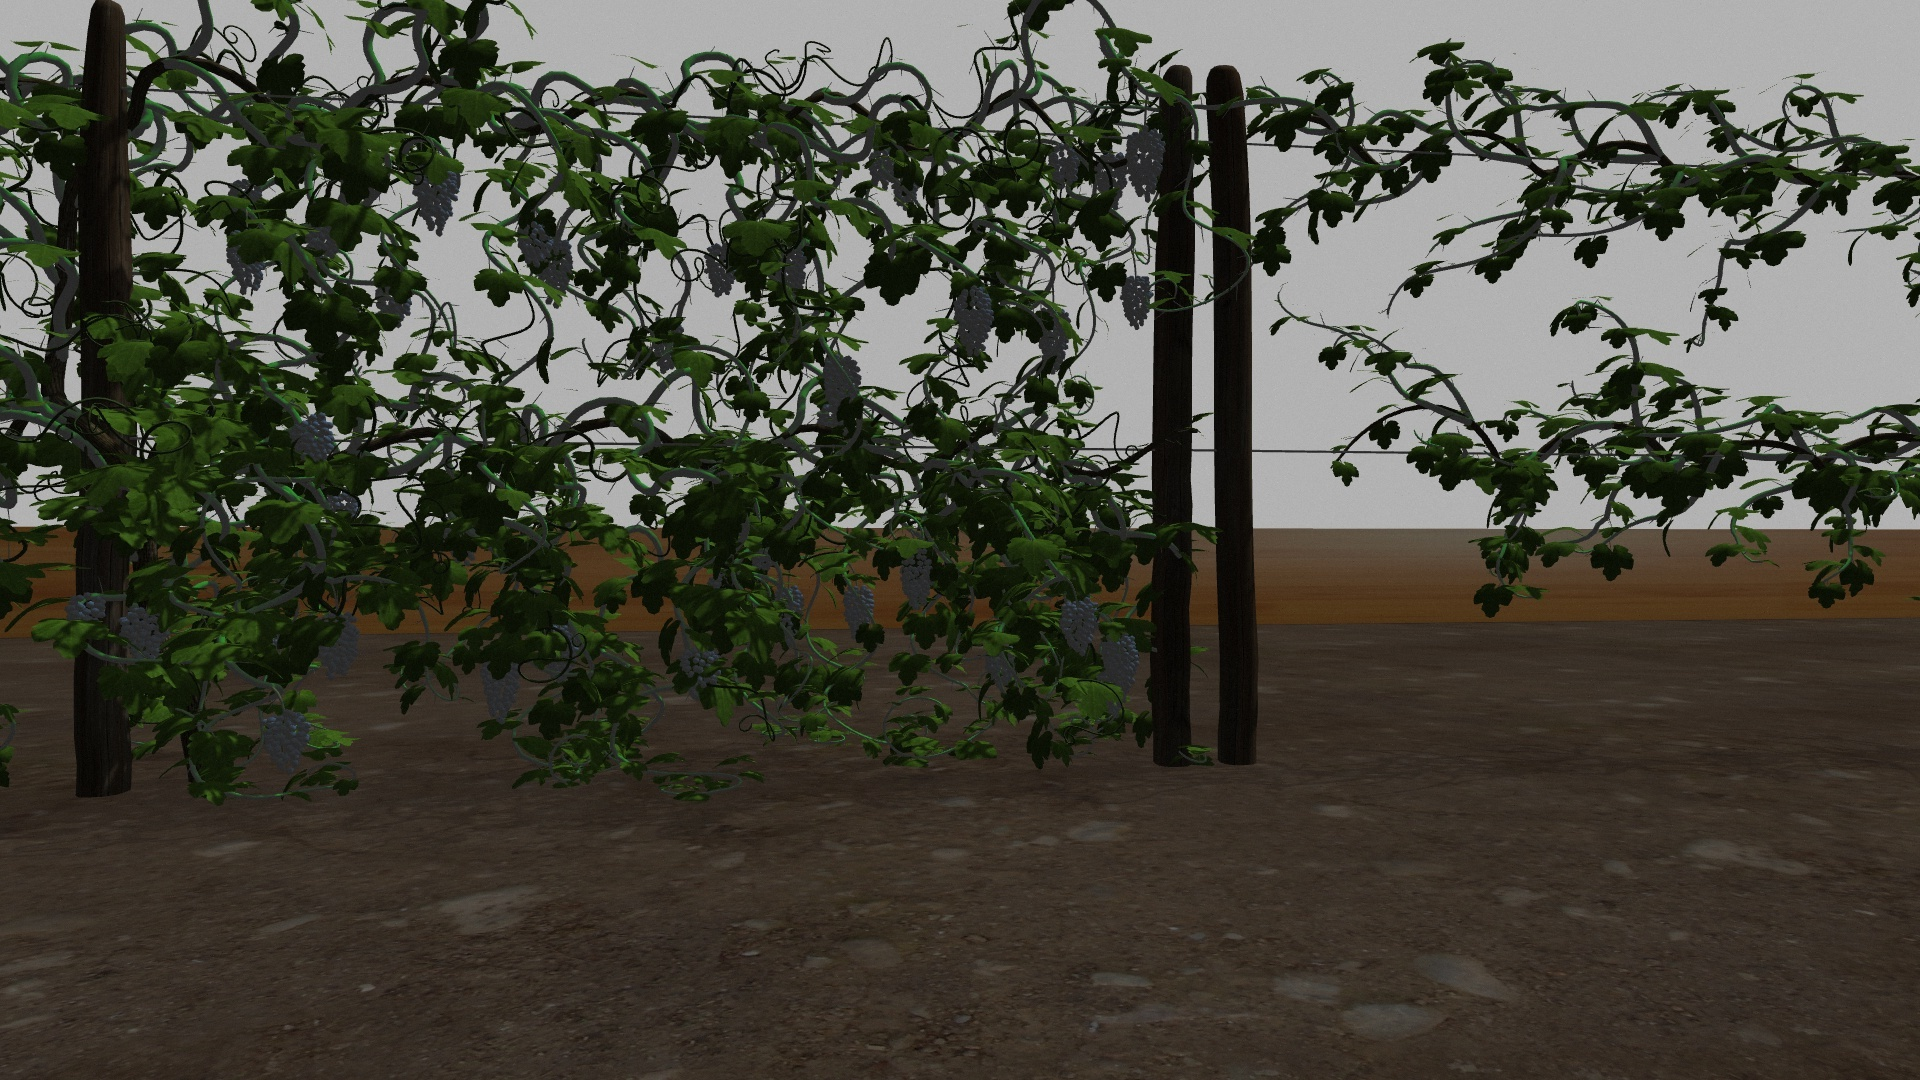grape: (411, 164, 462, 236), (258, 708, 309, 779), (313, 611, 361, 679), (1127, 128, 1167, 203), (953, 284, 993, 353), (480, 659, 521, 727), (820, 351, 862, 415), (225, 231, 264, 295), (289, 410, 335, 463), (117, 607, 164, 659), (1058, 597, 1097, 655), (541, 240, 574, 309), (1036, 309, 1072, 371), (1102, 634, 1139, 694), (899, 553, 931, 615), (1092, 152, 1126, 207), (704, 240, 736, 299), (1120, 276, 1153, 331), (843, 583, 873, 640), (1046, 146, 1081, 191), (517, 218, 549, 268), (61, 591, 104, 626), (984, 647, 1015, 695), (679, 645, 717, 680), (773, 584, 804, 626)
